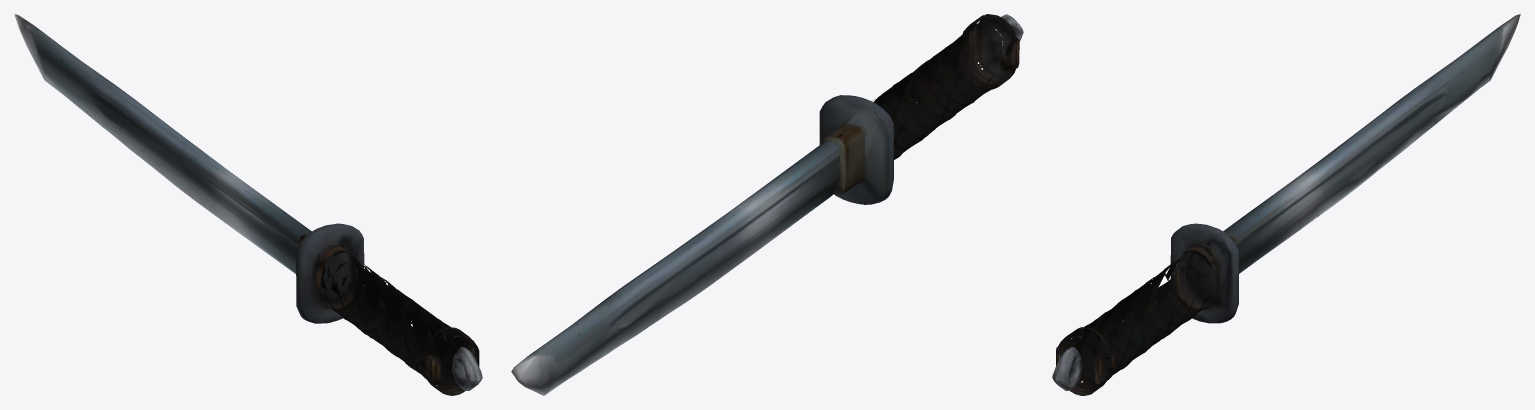
File: ninjato.glb
3 views of the same model, side by side, from view 1: azimuth 30°, elevation 25°; view 2: azimuth 150°, elevation 25°; view 3: azimuth 330°, elevation 25° (orthographic). The views are drawn at different scales.
Parts seen in each view (by area): view 1: main; view 2: main; view 3: main.
Part boxes in pixels (<box>): main: <box>14,14,482,395</box>; main: <box>511,14,1023,395</box>; main: <box>1052,14,1520,395</box>.
Bounding box in the file's own units: 0.0738 × 0.1031 × 0.9091.
Materials: 3 (3 with a texture image).
